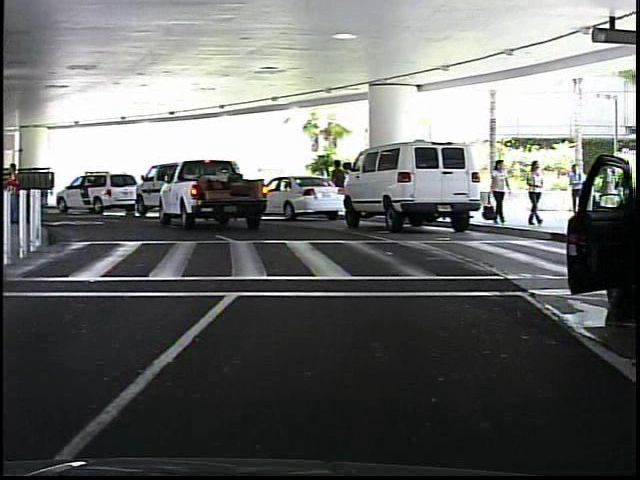person: (519, 156, 547, 229), (487, 156, 507, 227), (329, 154, 351, 215), (568, 159, 583, 195)
